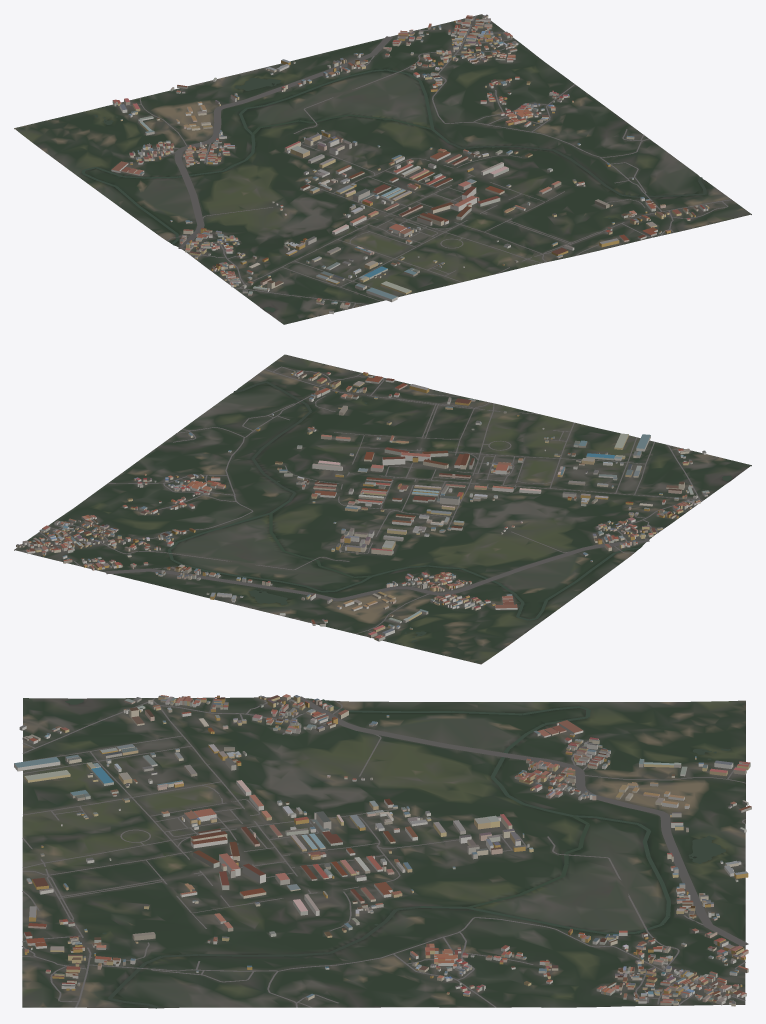
3 views of the same model, one above another, from view 1: azimuth 30°, elevation 25°; view 2: azimuth 150°, elevation 25°; view 3: azimuth 270°, elevation 25° (orthographic). The views are drawn at different scales.
Visible parts, largest first — view 1: ground, buildings, roads, water; view 2: ground, buildings, roads, water; view 3: ground, buildings, roads, water.
Part boxes in pixels (left/top/right/bottom): ground: left=14, top=14, right=751, bottom=324; buildings: left=111, top=14, right=709, bottom=314; roads: left=118, top=15, right=731, bottom=308; water: left=81, top=69, right=706, bottom=312; ground: left=14, top=354, right=751, bottom=664; buildings: left=16, top=370, right=709, bottom=641; roads: left=20, top=366, right=702, bottom=635; water: left=168, top=381, right=732, bottom=642; ground: left=22, top=697, right=745, bottom=1008; buildings: left=14, top=694, right=751, bottom=1006; roads: left=22, top=696, right=748, bottom=1007; water: left=65, top=699, right=730, bottom=1008.
Size of the model in its own units: 1412 by 30.48 by 1431.
